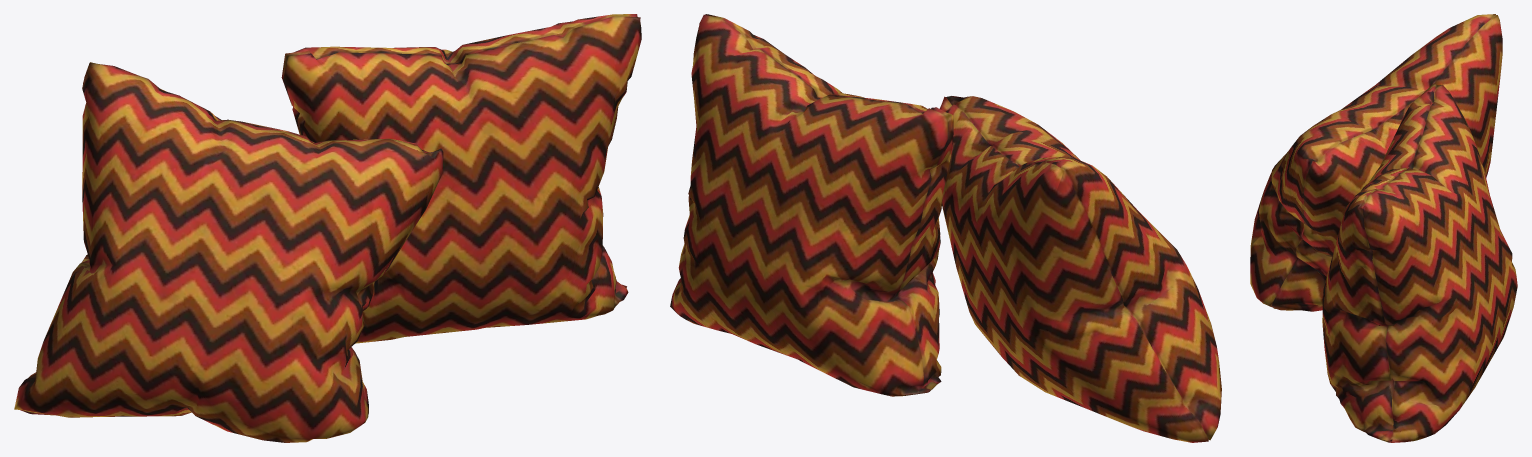
Rendered from pillows.glb.
3 renders of one model, left to right at view 1: azimuth 30°, elevation 25°; view 2: azimuth 150°, elevation 25°; view 3: azimuth 270°, elevation 25°, orthographic. The views are drawn at different scales.
Parts seen in each view (by area): view 1: throw_pillows_01_pillow02; view 2: throw_pillows_01_pillow02; view 3: throw_pillows_01_pillow02.
Part boxes in pixels (x1=…): throw_pillows_01_pillow02: x1=14, y1=14, x2=641, y2=442; throw_pillows_01_pillow02: x1=670, y1=14, x2=1221, y2=442; throw_pillows_01_pillow02: x1=1250, y1=14, x2=1517, y2=442.
Size of the model in its own units: 0.9401 by 0.4499 by 0.4504.
1 material, 1 textured.
